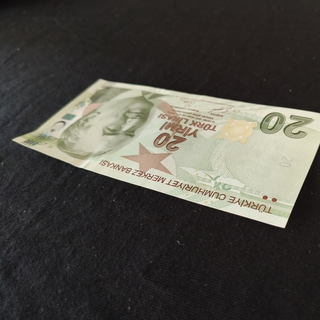20TLFront: (12, 78, 320, 228)
